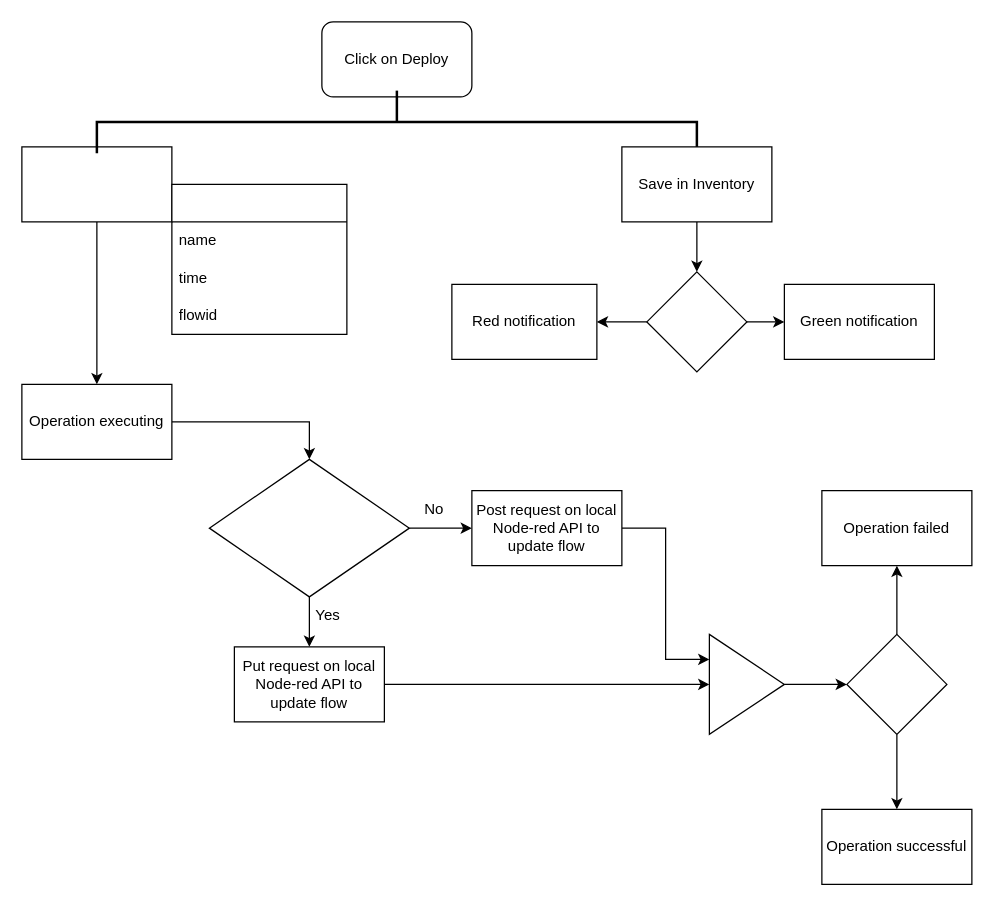
This 994x906 diagram has some shape labels left out. The box of each missing label's shape, as (x1, y1, x2, y2) in pixels:
Check if flow with id exists: (208, 458, 409, 597)
Create C8Y Operation on Device: (21, 146, 172, 222)
Flow successful injected: (846, 633, 947, 734)
getNewNode-RedFlow: (171, 183, 347, 334)
Save was successfull: (646, 271, 747, 372)
